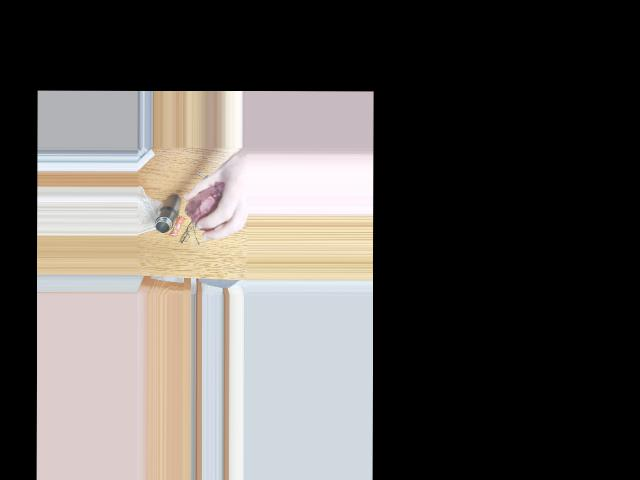onion: (188, 182, 226, 230)
